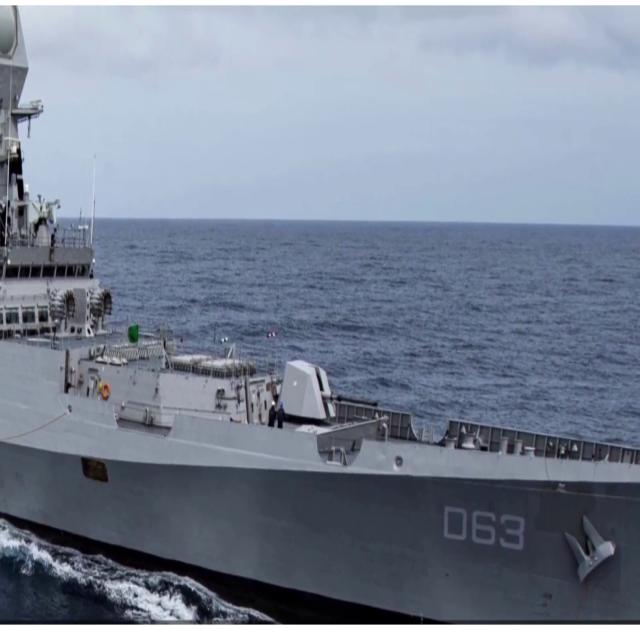OCR: (440, 500, 529, 558)
